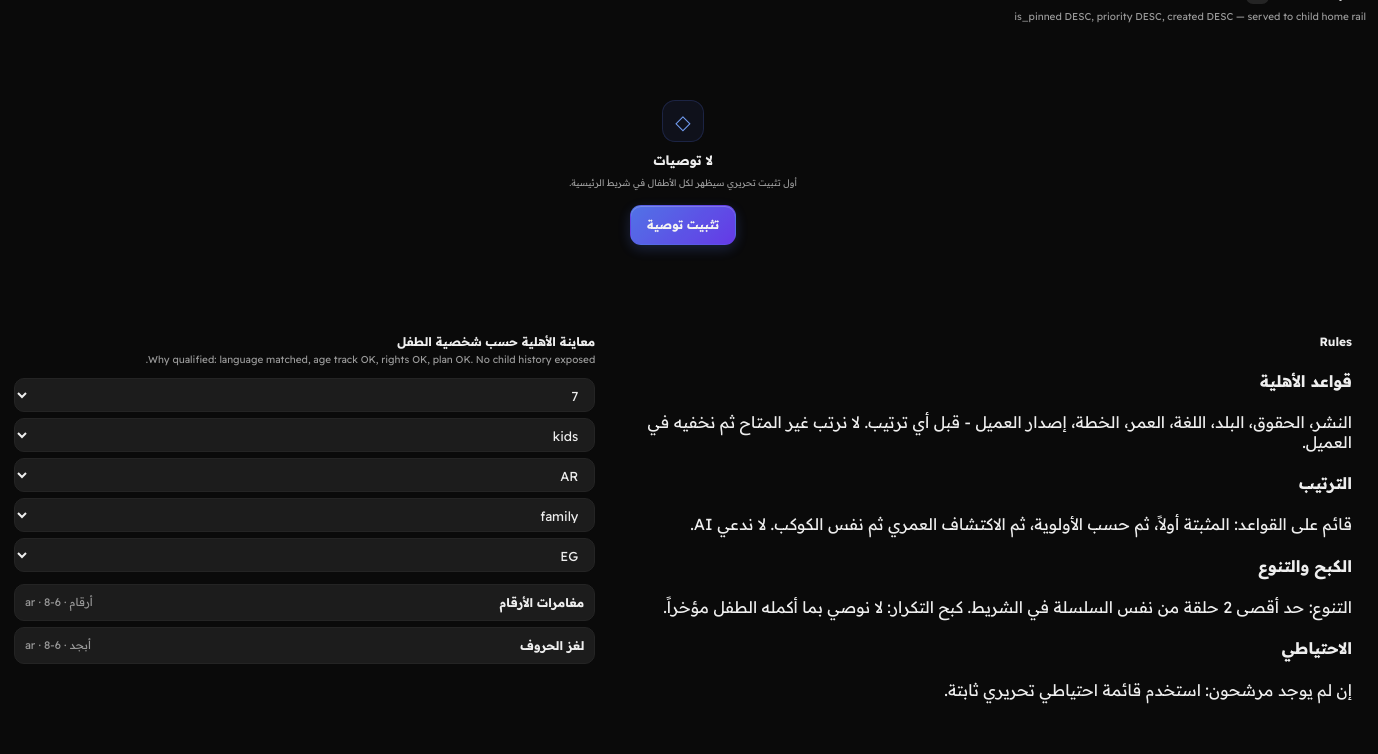
it: معاينة التوصيات: مسار ٩–١٢ › اختيار عمر 10 يُظهر مرشَّح الروّاد لا مرشَّحي ٦–٨
(page scrolled)
expect the text "مغامرات الأرقام" is shown: met, box [499,595,584,610]
expect the text "رحلة الحضارات" is not shown: met
Select "10" in the 1st dropdown at (305,395), box [14,378,595,412]
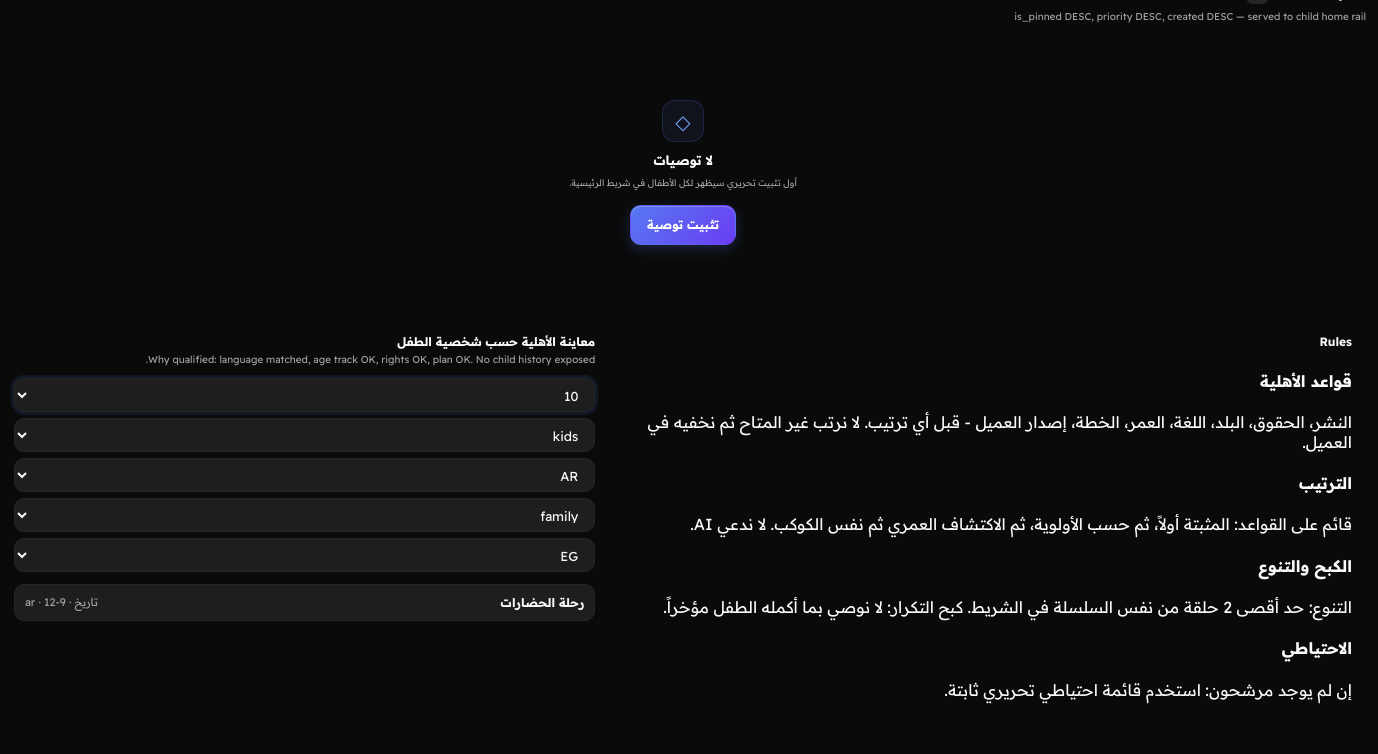
expect the text "رحلة الحضارات" is shown: met, box [501,595,584,610]
expect the text "مغامرات الأرقام" is gone: met
